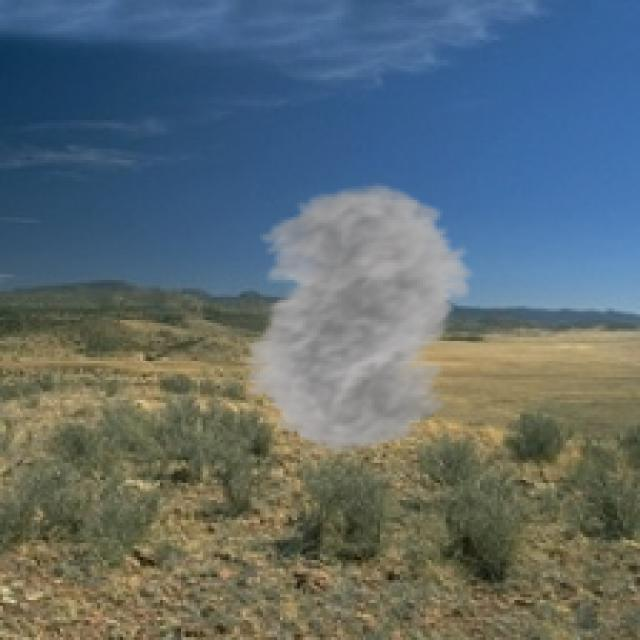Smoke: (215, 182, 494, 454)
